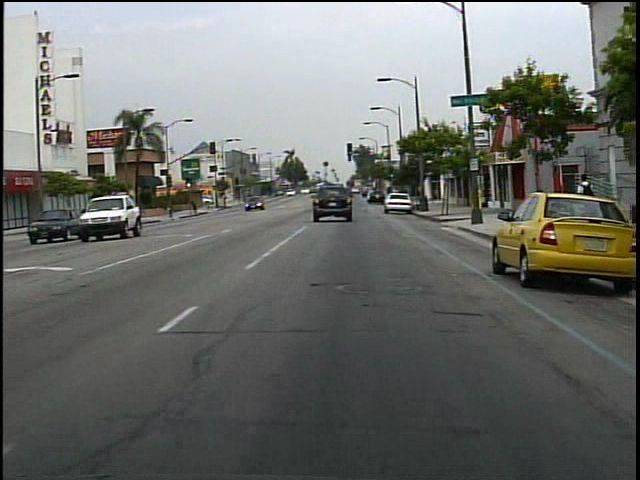person: (572, 166, 600, 214)
